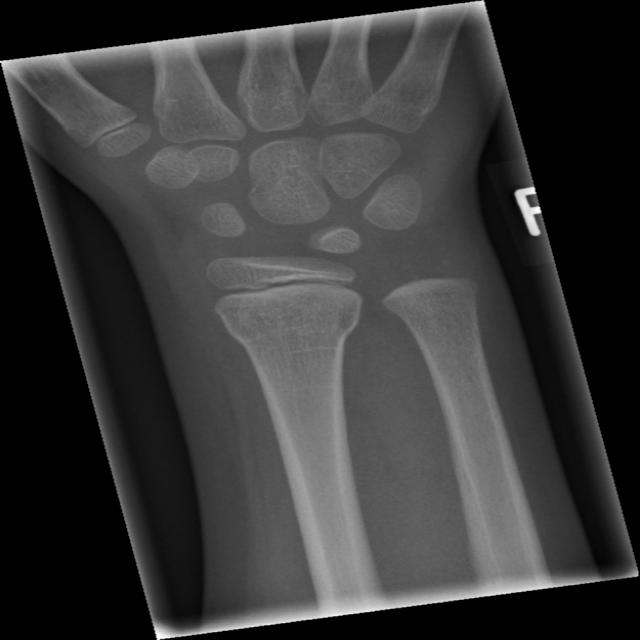radius fracture: (216, 296, 372, 378)
